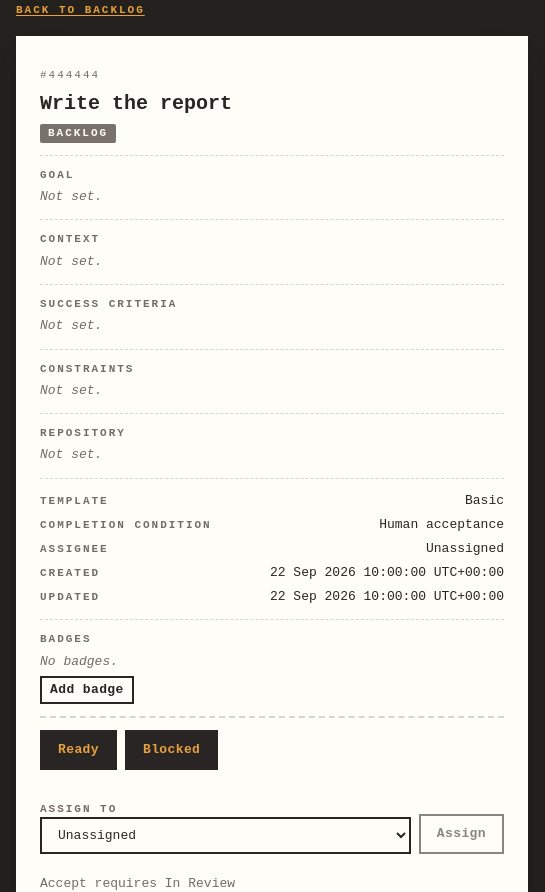
Test: TicketDetailPage › retains established non-Badge command 404 semantics
Expected: the heading "Write the report" is shown, [40,92,232,114]
Click the button with test id "ticket-detail-status-button-Ready": (78, 750) [40,730,117,770]
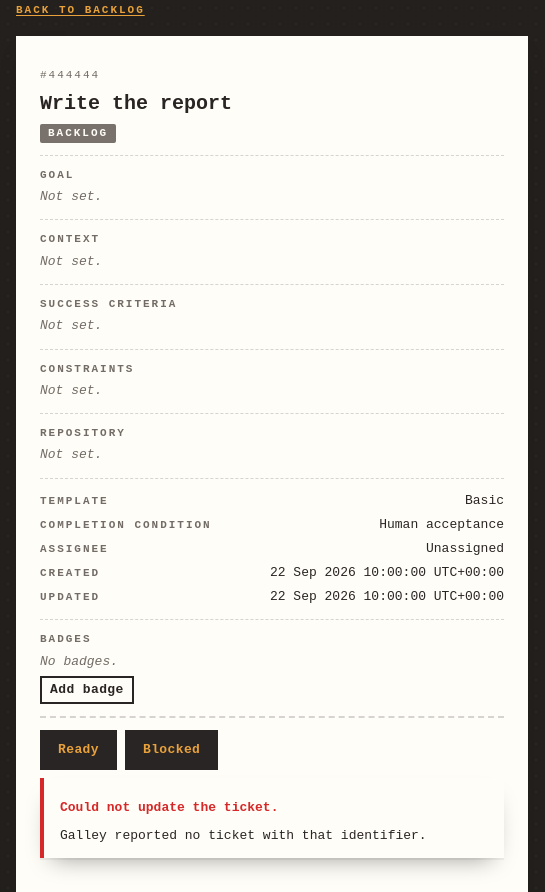
Now the text with test id "ticket-detail-action-error" reads "Galley reported no ticket with that identifier.", box [60,828,427,843]
